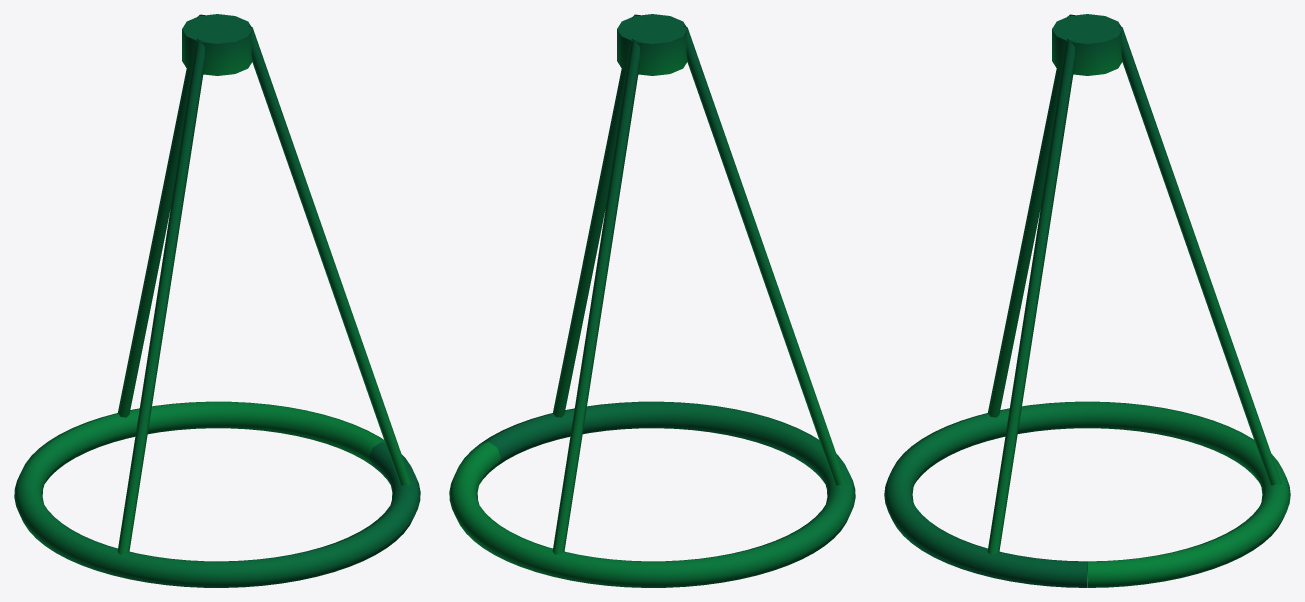
File: goal_ring.glb
3 views of the same model, side by side, from view 1: azimuth 30°, elevation 25°; view 2: azimuth 150°, elevation 25°; view 3: azimuth 270°, elevation 25° (orthographic).
Visible parts, largest first — view 1: goal_ring; view 2: goal_ring; view 3: goal_ring.
Boxes of the visible parts, x1,y1,x2,y2 form: goal_ring: (14, 14, 420, 587); goal_ring: (449, 14, 855, 587); goal_ring: (884, 14, 1290, 587).
Size of what is drawn, in the model's own units: 3.44 by 4.49 by 3.44.
